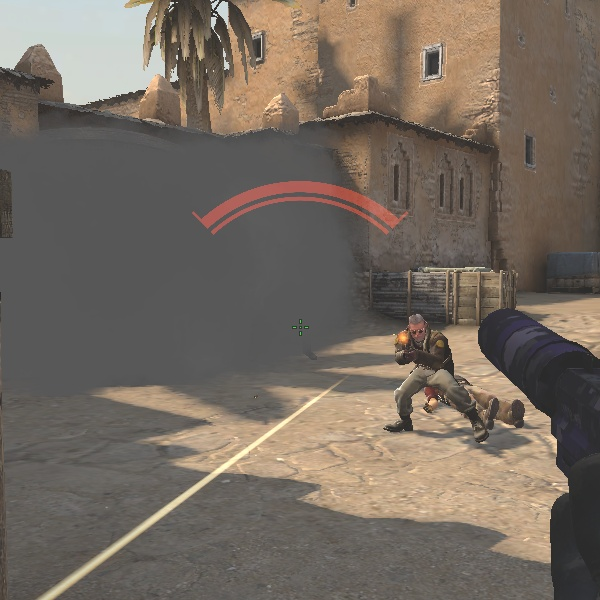t_body: (380, 306, 498, 442)
t_head: (402, 310, 437, 347)
